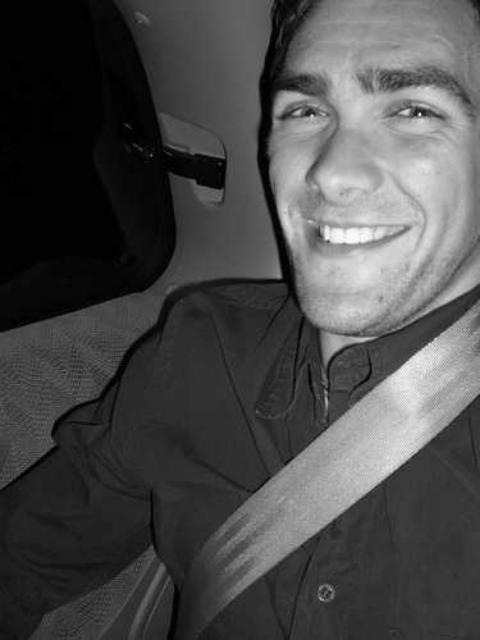SafeDriving: (374, 84, 460, 138), (274, 85, 339, 134)
Seatbelt: (167, 288, 480, 640)
